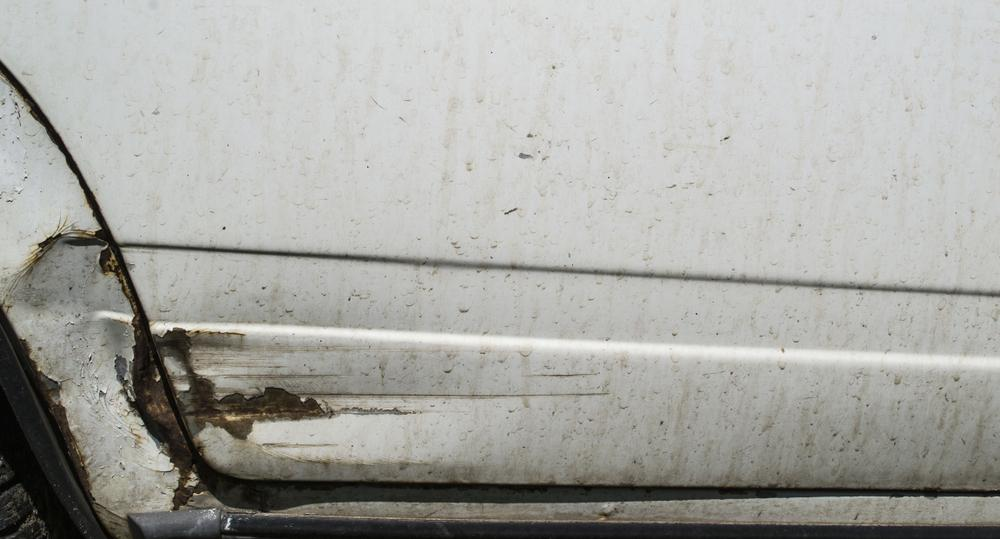dent: (3, 227, 185, 511)
scratch: (146, 321, 625, 439)
